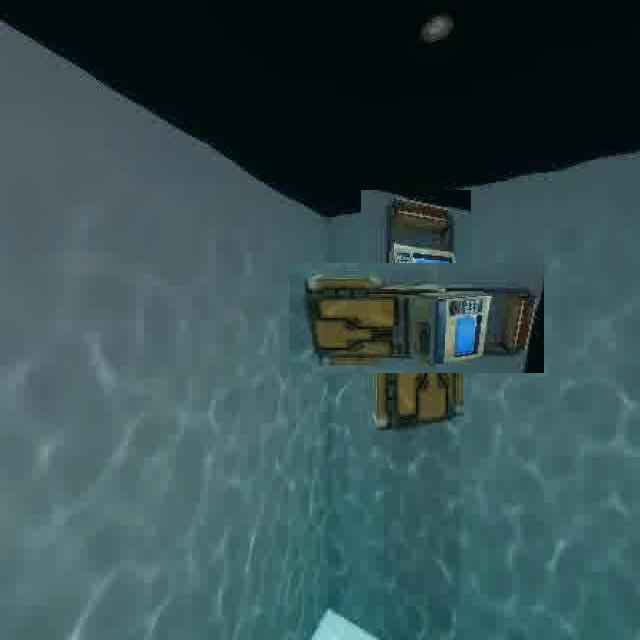Control Panel: (324, 226, 508, 410)
